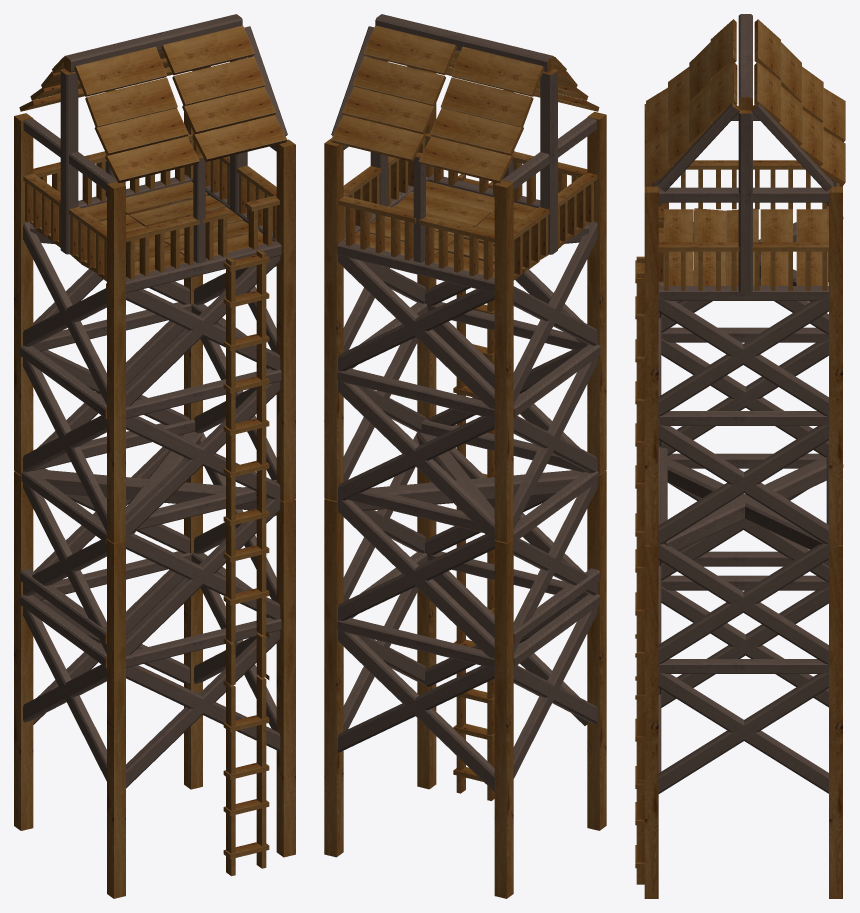
The model's file is The eifel toren.fbx.
3 views of the same model, side by side, from view 1: azimuth 30°, elevation 25°; view 2: azimuth 150°, elevation 25°; view 3: azimuth 270°, elevation 25° (orthographic).
Visible parts, largest first — view 1: Cube.002; view 2: Cube.002; view 3: Cube.002.
Boxes of the visible parts, x1=… form: Cube.002: x1=14, y1=14, x2=295, y2=898; Cube.002: x1=324, y1=14, x2=606, y2=898; Cube.002: x1=635, y1=14, x2=845, y2=898.
Bounding box in the file's own units: 1312 × 5510 × 1311.
Materials: 8 (8 with a texture image).
